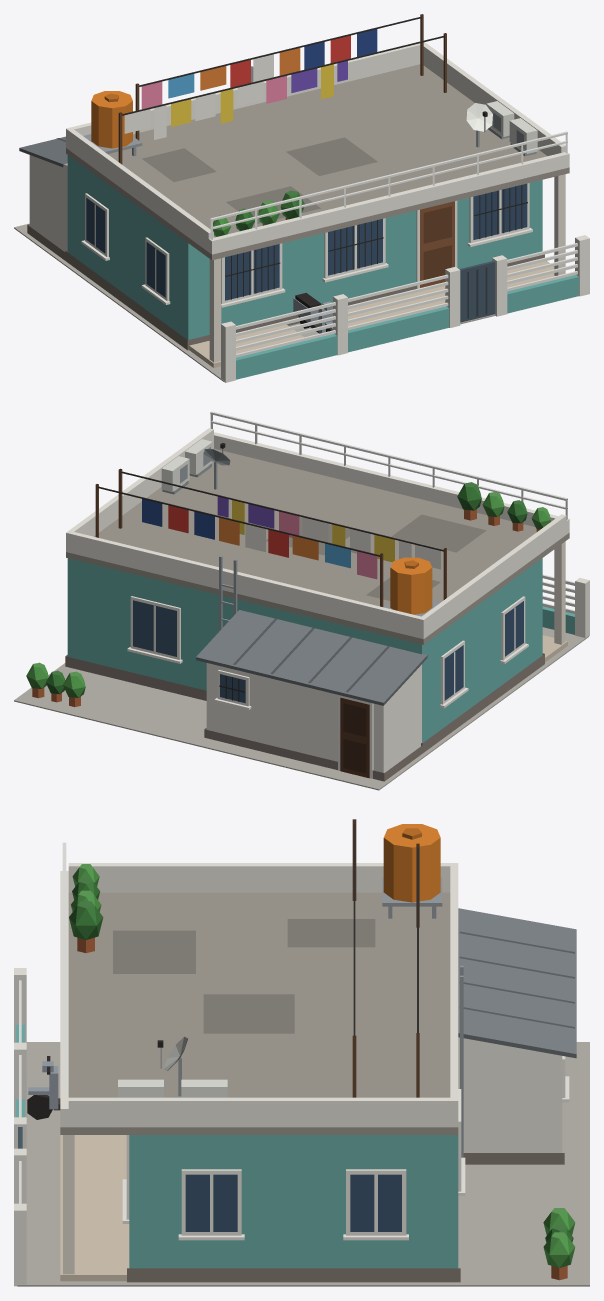
The model's file is rumah_09.glb.
The picture shows the model from 3 angles, top to bottom: view 1: azimuth 30°, elevation 25°; view 2: azimuth 150°, elevation 25°; view 3: azimuth 270°, elevation 25°; orthographic projection. The views are drawn at different scales.
Visible parts, largest first — view 1: rumah_09; view 2: rumah_09; view 3: rumah_09.
Boxes of the visible parts, left/top/right/bottom form: rumah_09: left=14, top=14, right=589, bottom=382; rumah_09: left=14, top=411, right=589, bottom=790; rumah_09: left=14, top=819, right=589, bottom=1286.
Bounding box in the file's own units: 9.96 × 4.58 × 9.98.
